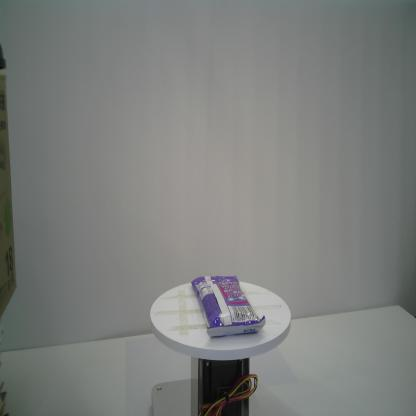Candy: (190, 274, 266, 338)
